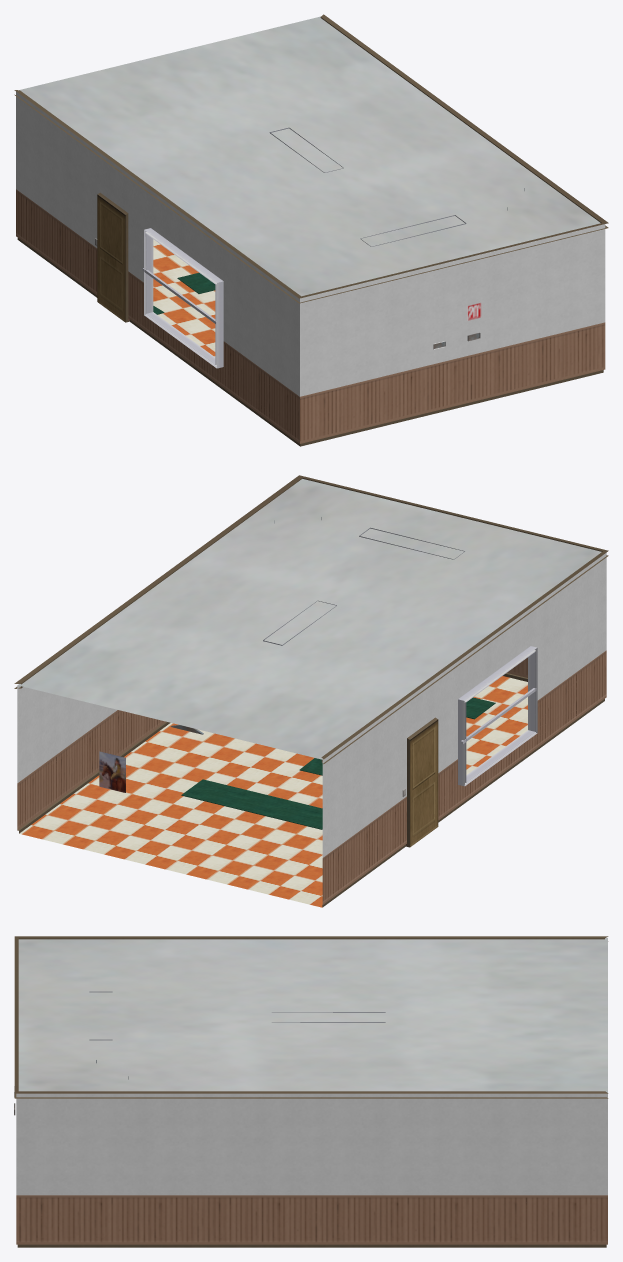
File: shop.FBX
3 renders of one model, top to bottom at view 1: azimuth 30°, elevation 25°; view 2: azimuth 150°, elevation 25°; view 3: azimuth 270°, elevation 25°, orthographic. The views are drawn at different scales.
Visible parts, largest first — view 1: shop; view 2: shop; view 3: shop.
Boxes of the visible parts, box(x1,y1,x2,y2) form: shop: box(14, 14, 608, 446); shop: box(14, 475, 608, 907); shop: box(14, 936, 608, 1247).
Bounding box in the file's own units: 641 × 299 × 1006.
1 material, 1 textured.
